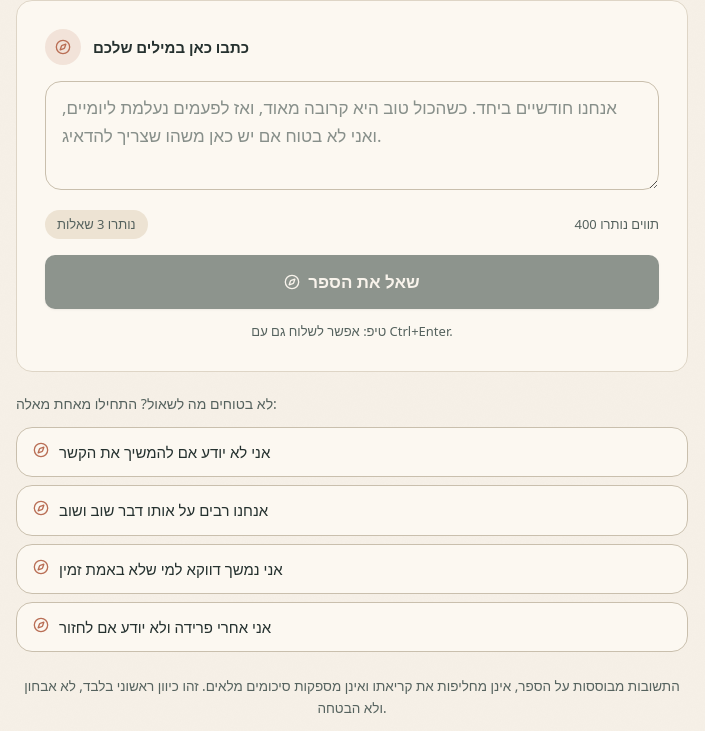
CompassConsole, availability gating › keeps the form and the typed question when the POST answers available:false
Replace the text in the text box labelled "כתבו כאן במילים שלכם" with "למה היא מתרחקת ממני אחרי כמה דייטים טובים" at coordinates (352, 135), box [45,81,659,190]
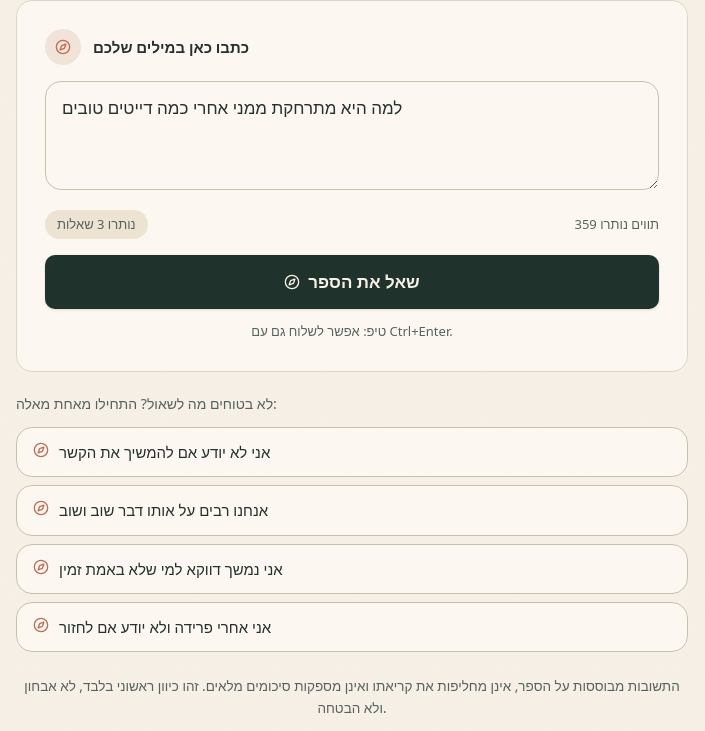
Click the button "שאל את הספר" at coordinates (352, 282), box [45,255,659,309]
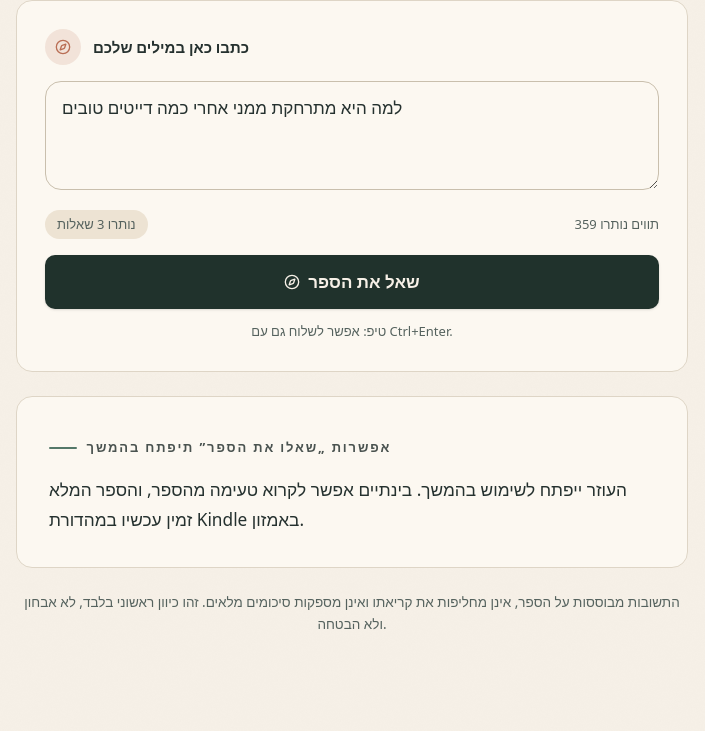
Now the text "העוזר ייפתח לשימוש בהמשך. בינתיים אפשר לקרוא טעימה מהספר, והספר המלא זמין עכשיו במהדורת Kindle באמזון." is shown, box [49,478,627,531]
